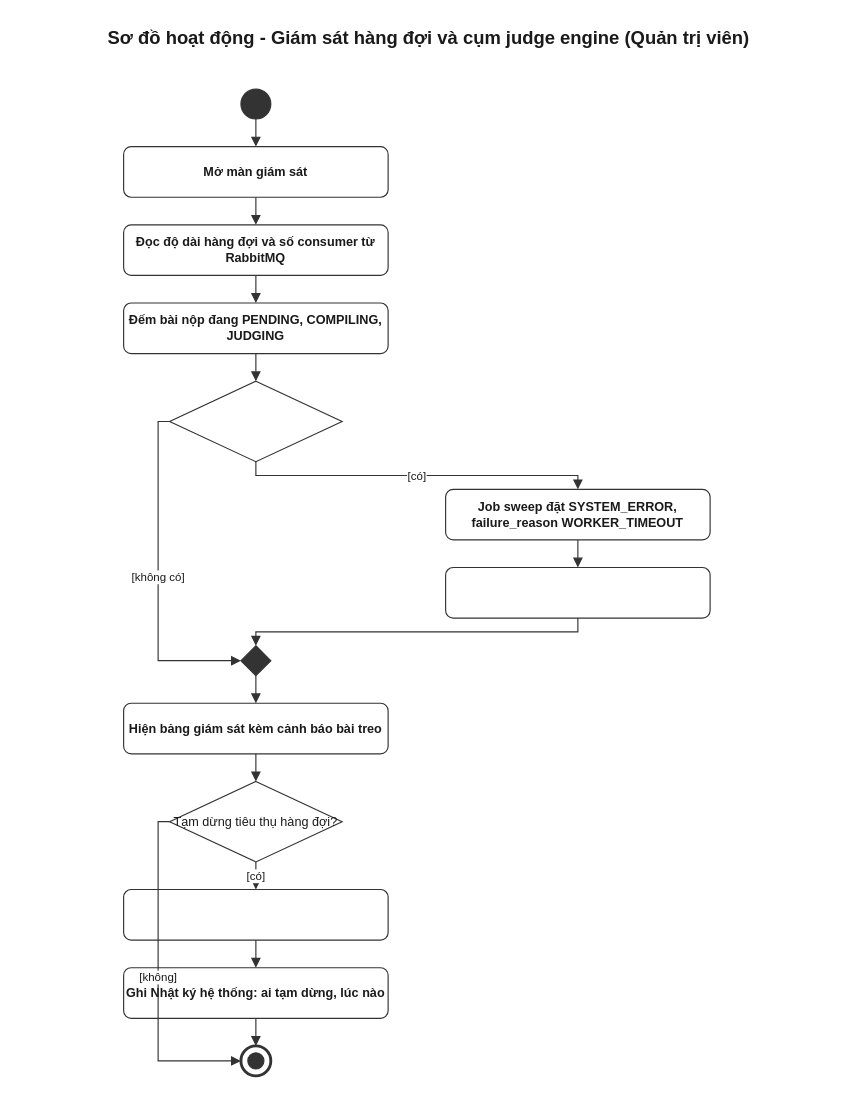
The diagram is 856 pixels wide and 1097 high, and some of its shapes have lost their labels. Each missing label, with the centre of its shape:
"Có bài nộp quá ngưỡng 5 phút không cập nhật?" goes at (x=255, y=421).
"Dừng consumer, không huỷ message đang chờ" goes at (x=255, y=914).
"Mệnh đề WHERE chặn ghi đè kết quả của worker về muộn" goes at (x=577, y=592).
